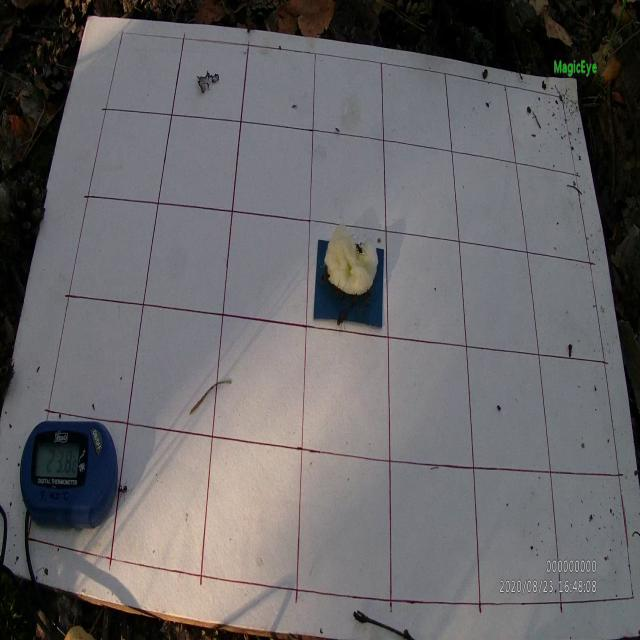Ant: (117, 478, 129, 503), (356, 238, 368, 256), (337, 308, 348, 327), (320, 270, 330, 284)
